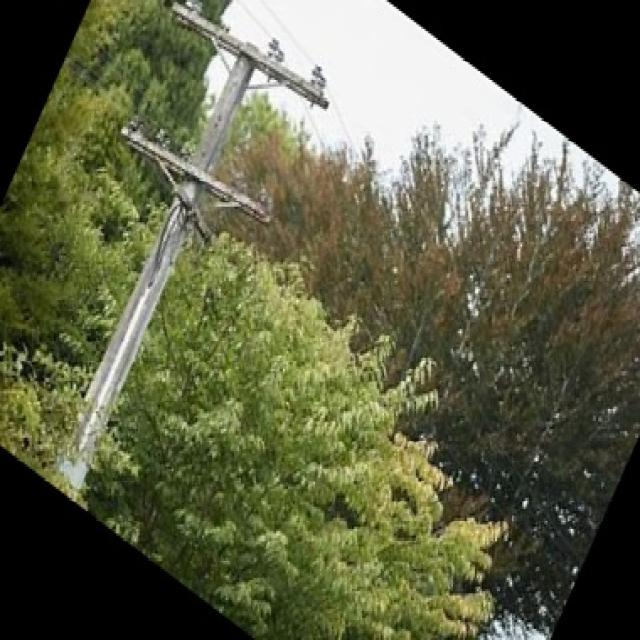utility poles: (80, 1, 323, 524)
